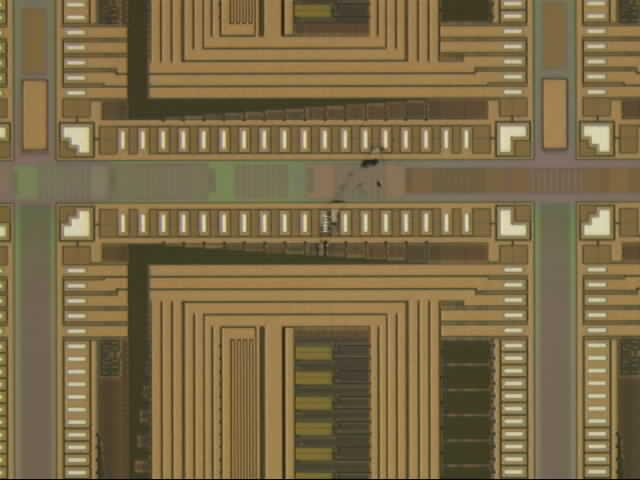SCRATCH: (311, 138, 394, 258)
